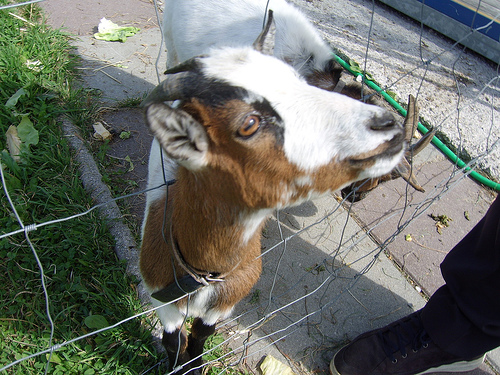goat: (135, 9, 406, 375), (160, 1, 437, 201)
